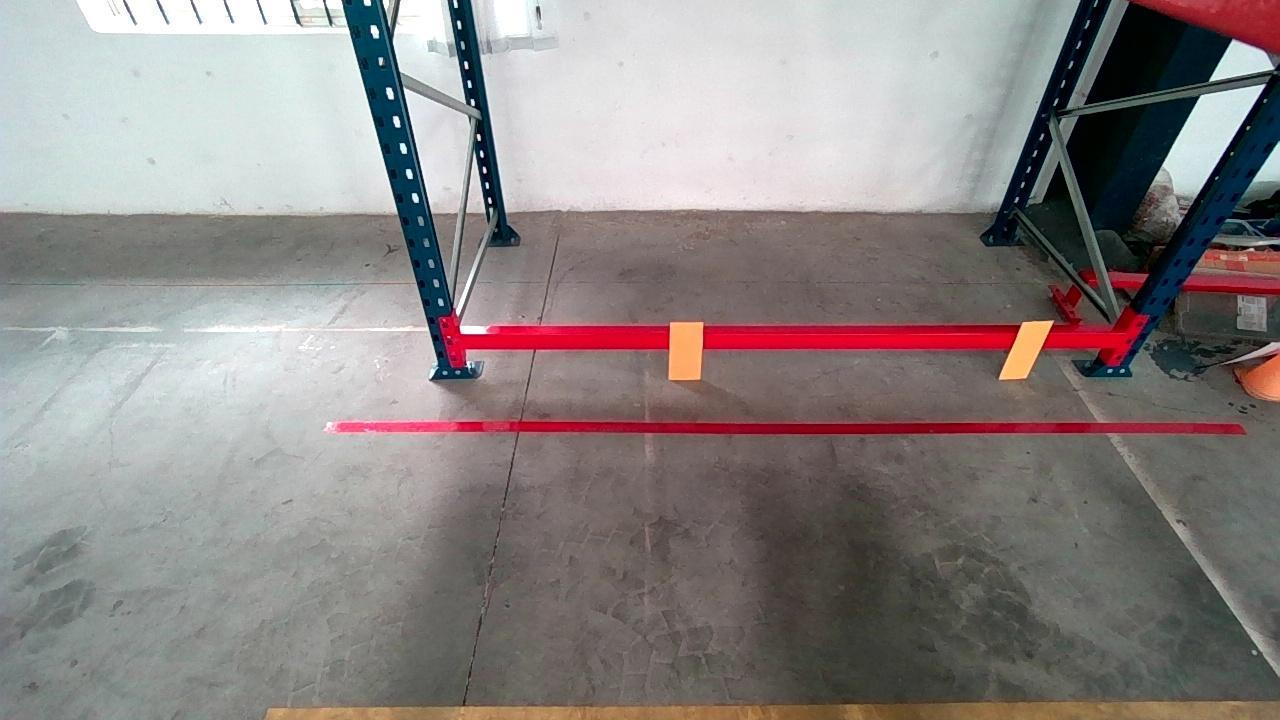orange_strip: (1000, 320, 1056, 378), (670, 320, 703, 378)
red_line: (324, 411, 1244, 441), (464, 322, 1115, 348)
yellow_line: (266, 701, 1280, 720)
